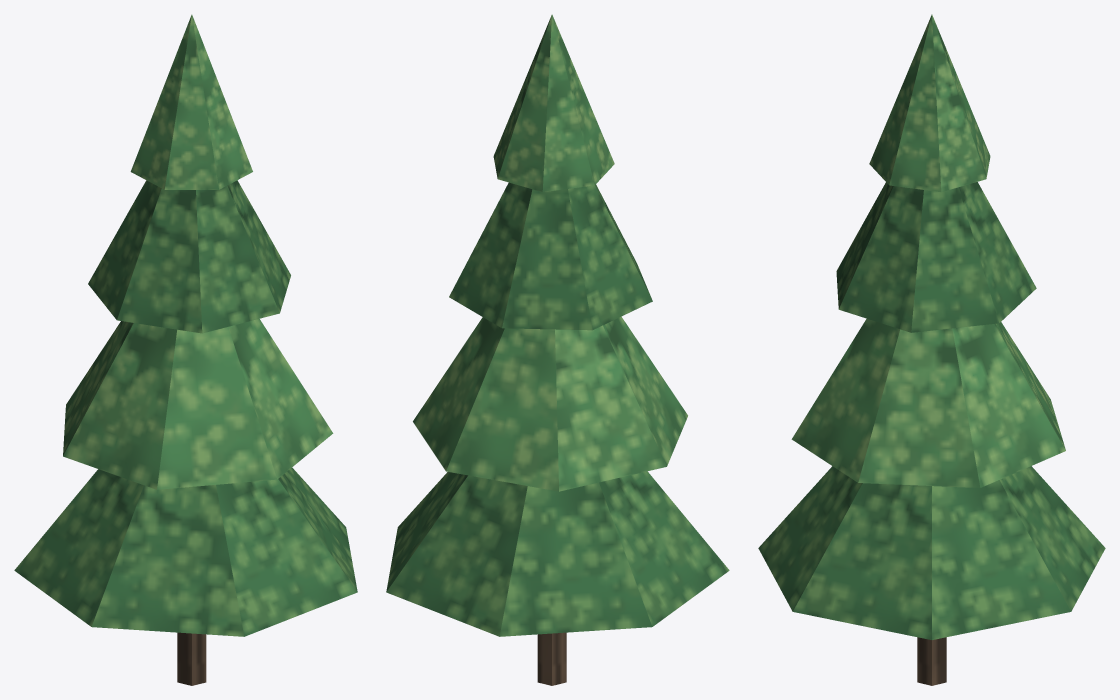
The model's file is tree_pine.obj.
3 renders of one model, left to right at view 1: azimuth 30°, elevation 25°; view 2: azimuth 150°, elevation 25°; view 3: azimuth 270°, elevation 25°, orthographic.
Parts seen in each view (by area): view 1: tree_pine_crown, tree_pine; view 2: tree_pine_crown, tree_pine; view 3: tree_pine_crown, tree_pine.
Part boxes in pixels (x1,y1,x2,y2): tree_pine_crown: (14, 14, 357, 636); tree_pine: (177, 632, 206, 685); tree_pine_crown: (386, 14, 729, 636); tree_pine: (537, 632, 566, 685); tree_pine_crown: (758, 14, 1105, 639); tree_pine: (917, 637, 946, 685).
Size of the model in its own units: 3.23 by 7 by 3.31.
1 material, 1 textured.
